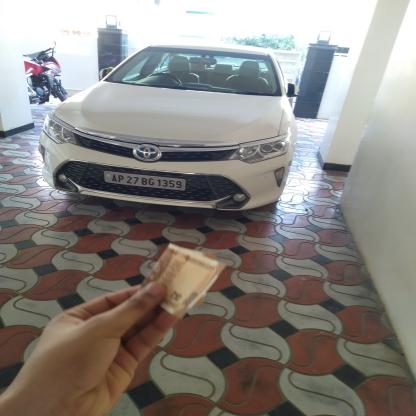New10Front: (139, 244, 217, 310)
